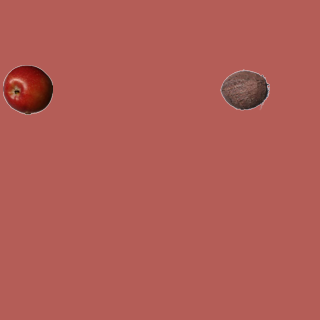Apple Braeburn: (2, 64, 52, 114)
Cocos: (219, 64, 269, 114)
